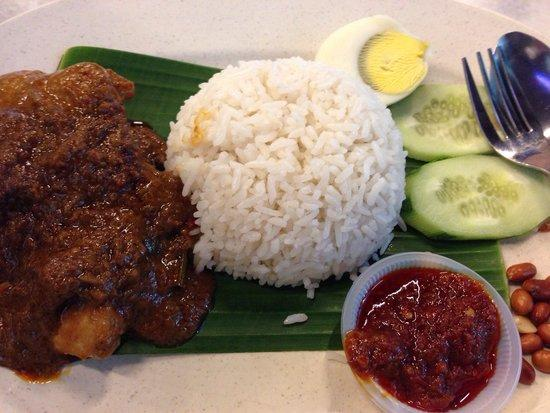Boiled-Egg: (314, 15, 428, 107)
Cucumber: (387, 82, 550, 240)
Peanuts: (506, 264, 550, 385)
Rendang-Chicken: (0, 62, 216, 383)
Rice: (165, 59, 405, 288)
Sambal: (356, 272, 499, 402)
